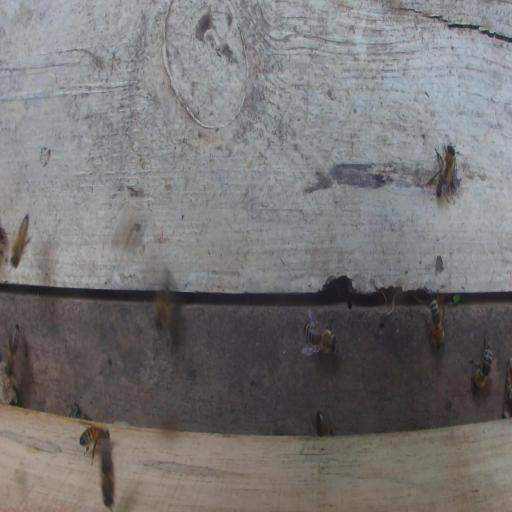Insects: (424, 141, 457, 198), (301, 308, 338, 357), (422, 291, 445, 350), (468, 335, 492, 391), (79, 423, 111, 465), (10, 213, 30, 269), (153, 287, 175, 331), (100, 443, 114, 509), (5, 323, 19, 376), (315, 409, 335, 437)
